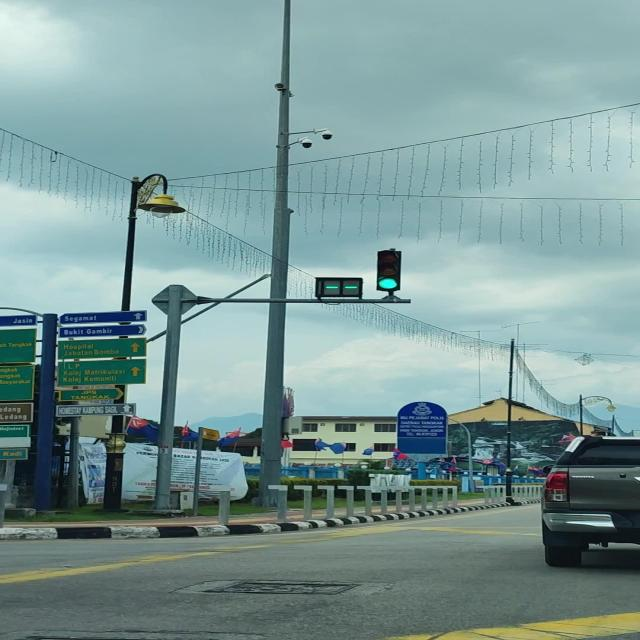car: (540, 435, 640, 572)
traffic light: (315, 277, 363, 300), (376, 250, 402, 292)
